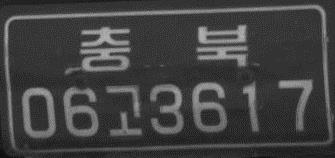0: (19, 85, 58, 141)
1: (238, 81, 262, 135)
3: (147, 81, 187, 136)
6: (61, 84, 100, 138), (190, 80, 228, 135)
7: (275, 76, 316, 134)
고: (103, 82, 145, 138)
충북_D: (78, 22, 251, 74)
